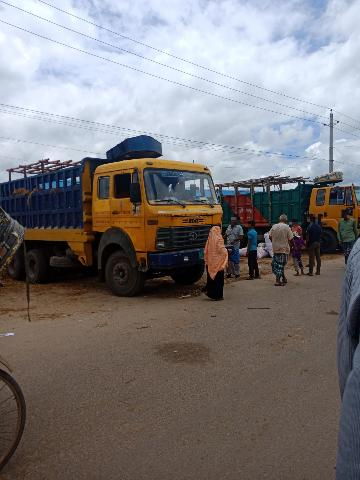truck: (0, 151, 217, 298), (219, 165, 358, 266)
